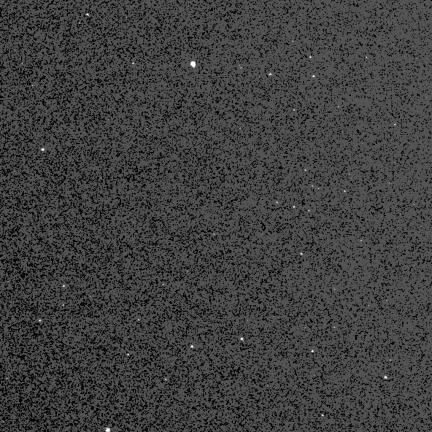blob: (191, 61, 196, 67), (269, 73, 273, 76), (106, 428, 110, 431), (313, 75, 316, 78), (191, 346, 194, 349), (41, 148, 44, 151), (385, 376, 388, 379), (138, 319, 141, 322), (87, 14, 90, 17), (127, 354, 130, 357), (300, 253, 303, 256), (241, 338, 244, 341), (311, 350, 314, 353), (305, 169, 307, 172), (293, 206, 296, 208), (39, 320, 42, 322), (322, 414, 324, 417), (276, 202, 279, 204)
